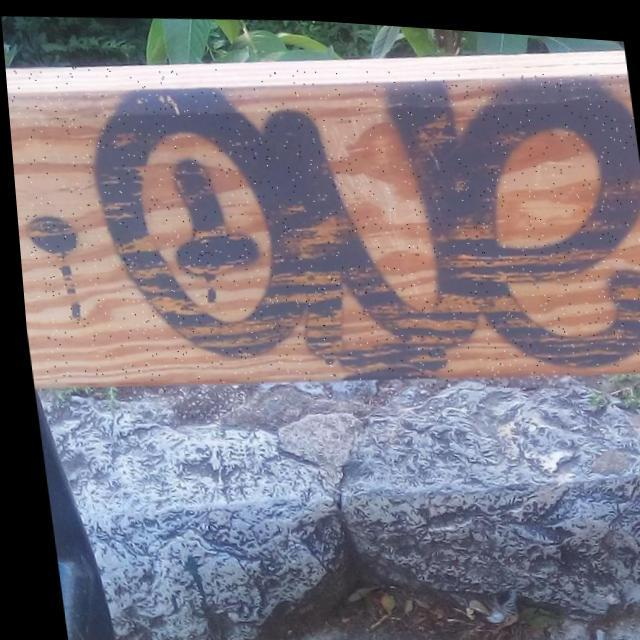-: (2, 34, 640, 414)
